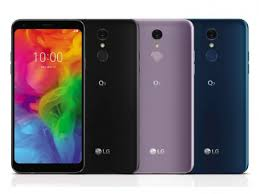lg: (10, 17, 86, 175), (191, 16, 250, 175), (136, 15, 195, 174), (84, 16, 137, 174)
